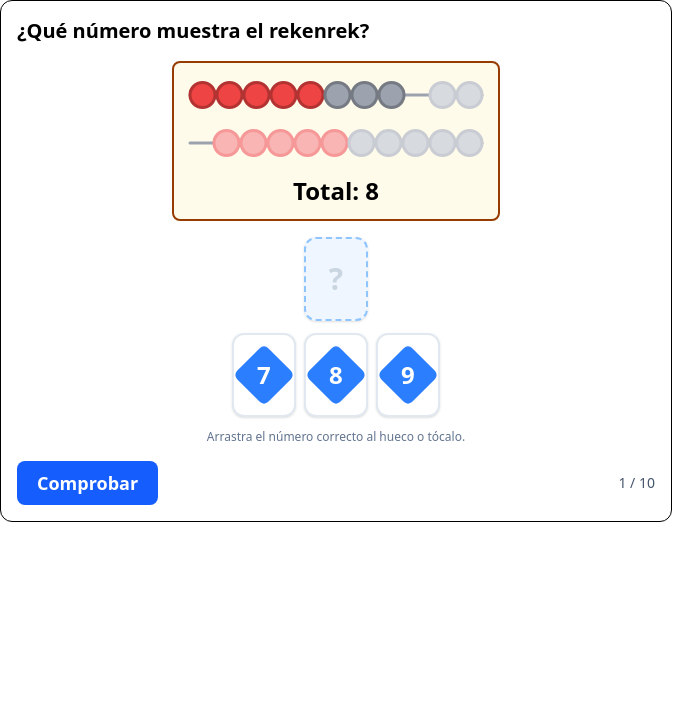
Scenario: ExerciseRunner › identify con opciones: chip incorrecto → feedback incorrect
This screenshot has width=689, height=711.
Press the mouse on the element with test id "answer-chip": (264, 375) [232,333,296,417]
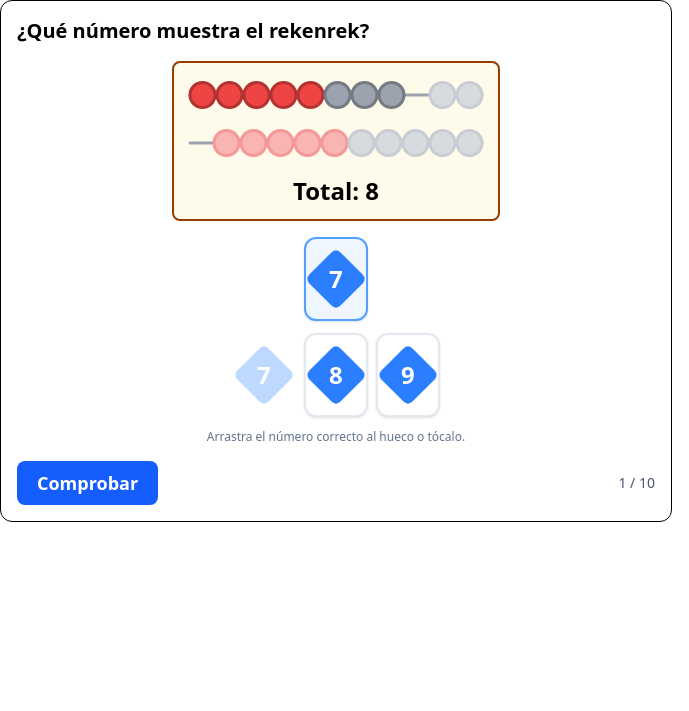
Click the button "Comprobar": (88, 483) [17,461,158,505]
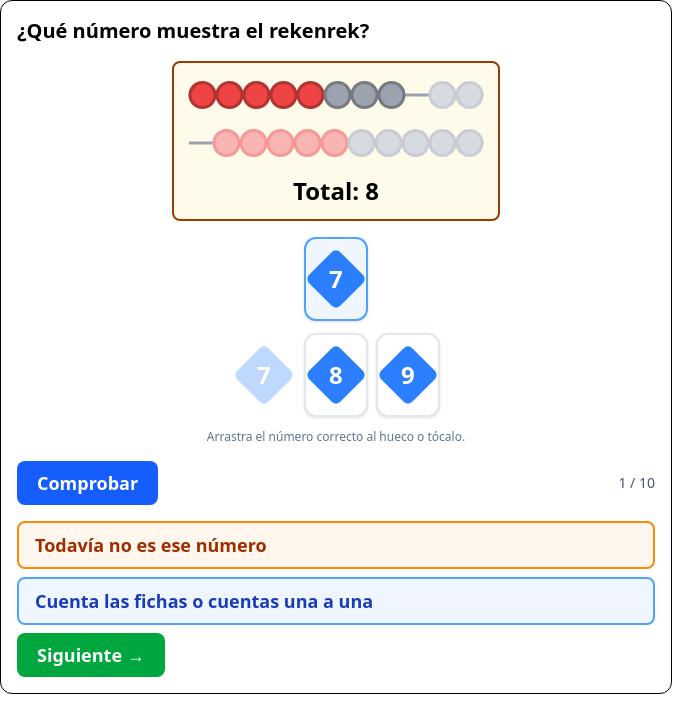
Result: the message "Todavía no es ese número" is shown at [17,521,655,569]
